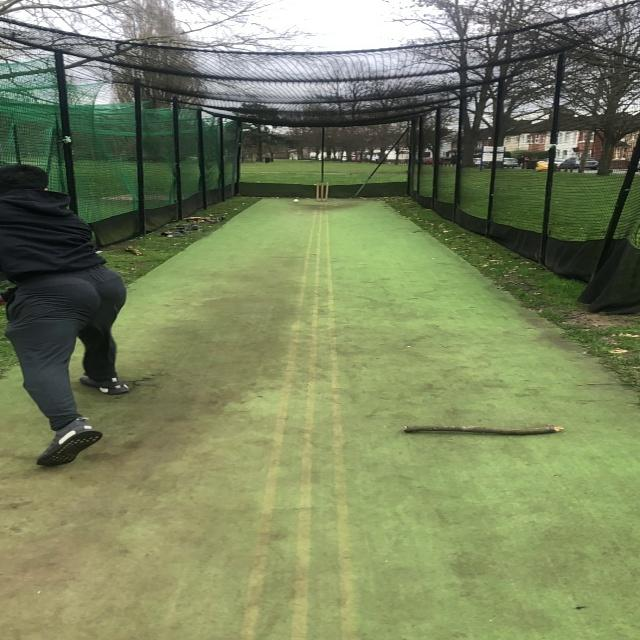ball: (293, 198, 299, 204)
